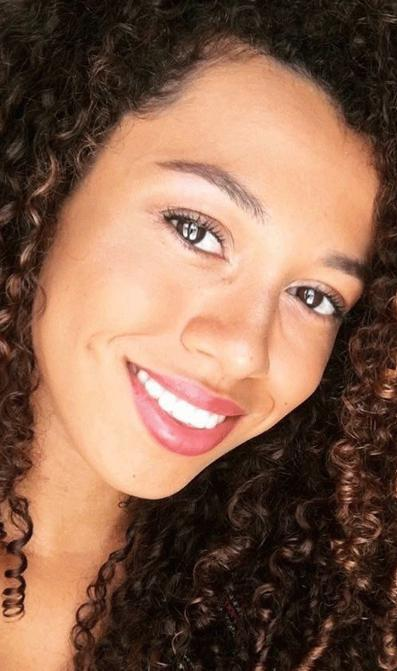Sober: (89, 90, 339, 468)
